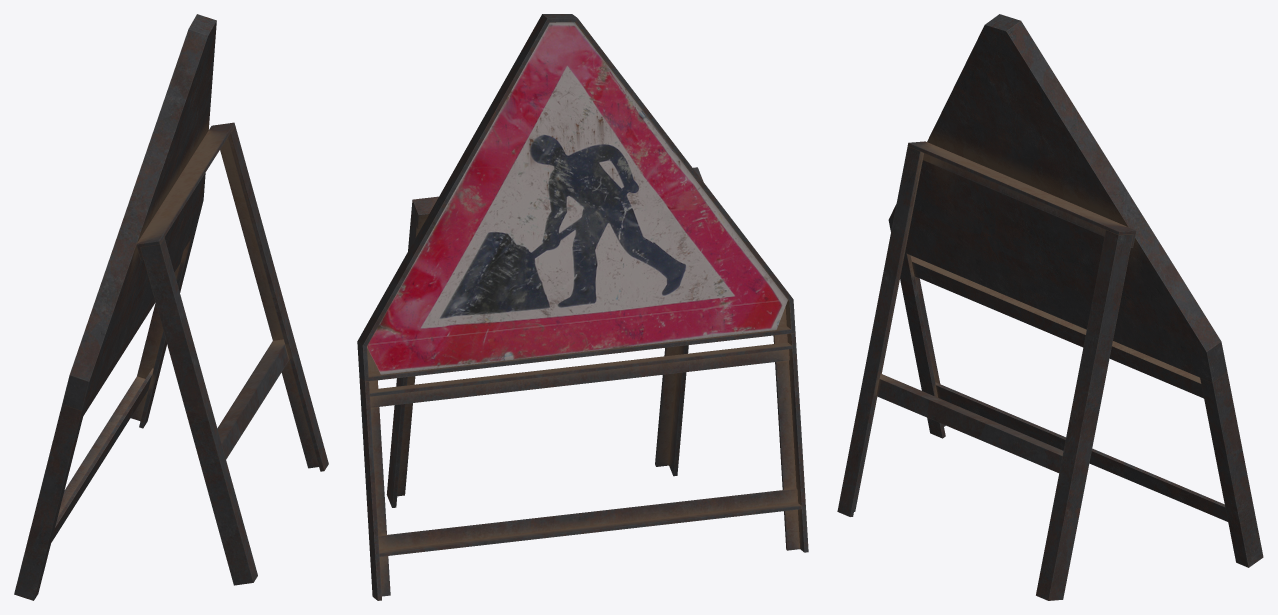
Rendered from road-works-sign-old.glb.
3 renders of one model, left to right at view 1: azimuth 30°, elevation 25°; view 2: azimuth 150°, elevation 25°; view 3: azimuth 270°, elevation 25°, orthographic. The views are drawn at different scales.
Parts seen in each view (by area): view 1: Object_52, Object_50; view 2: Object_55, Object_52, Object_50; view 3: Object_52, Object_50.
Part boxes in pixels (<box>): Object_52: <box>14,14,216,600</box>; Object_50: <box>136,122,328,585</box>; Object_55: <box>367,22,787,374</box>; Object_52: <box>357,14,808,600</box>; Object_50: <box>386,167,703,507</box>; Object_52: <box>888,14,1263,567</box>; Object_50: <box>837,141,1136,600</box>.
Size of the model in its own units: 0.7632 by 1.01 by 0.7521.
Materials: 1 (1 with a texture image).
